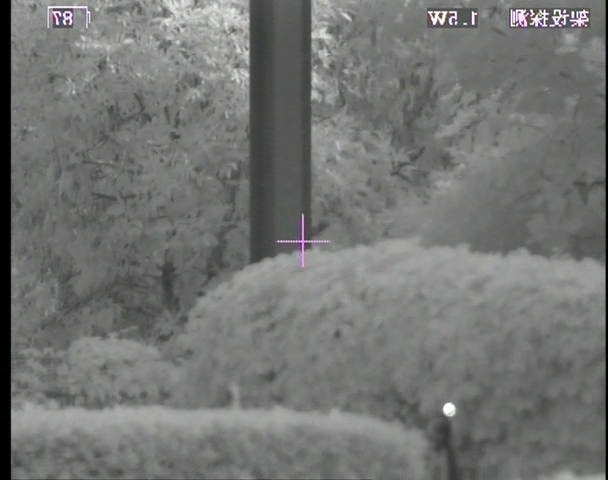my: (441, 401, 457, 418)
